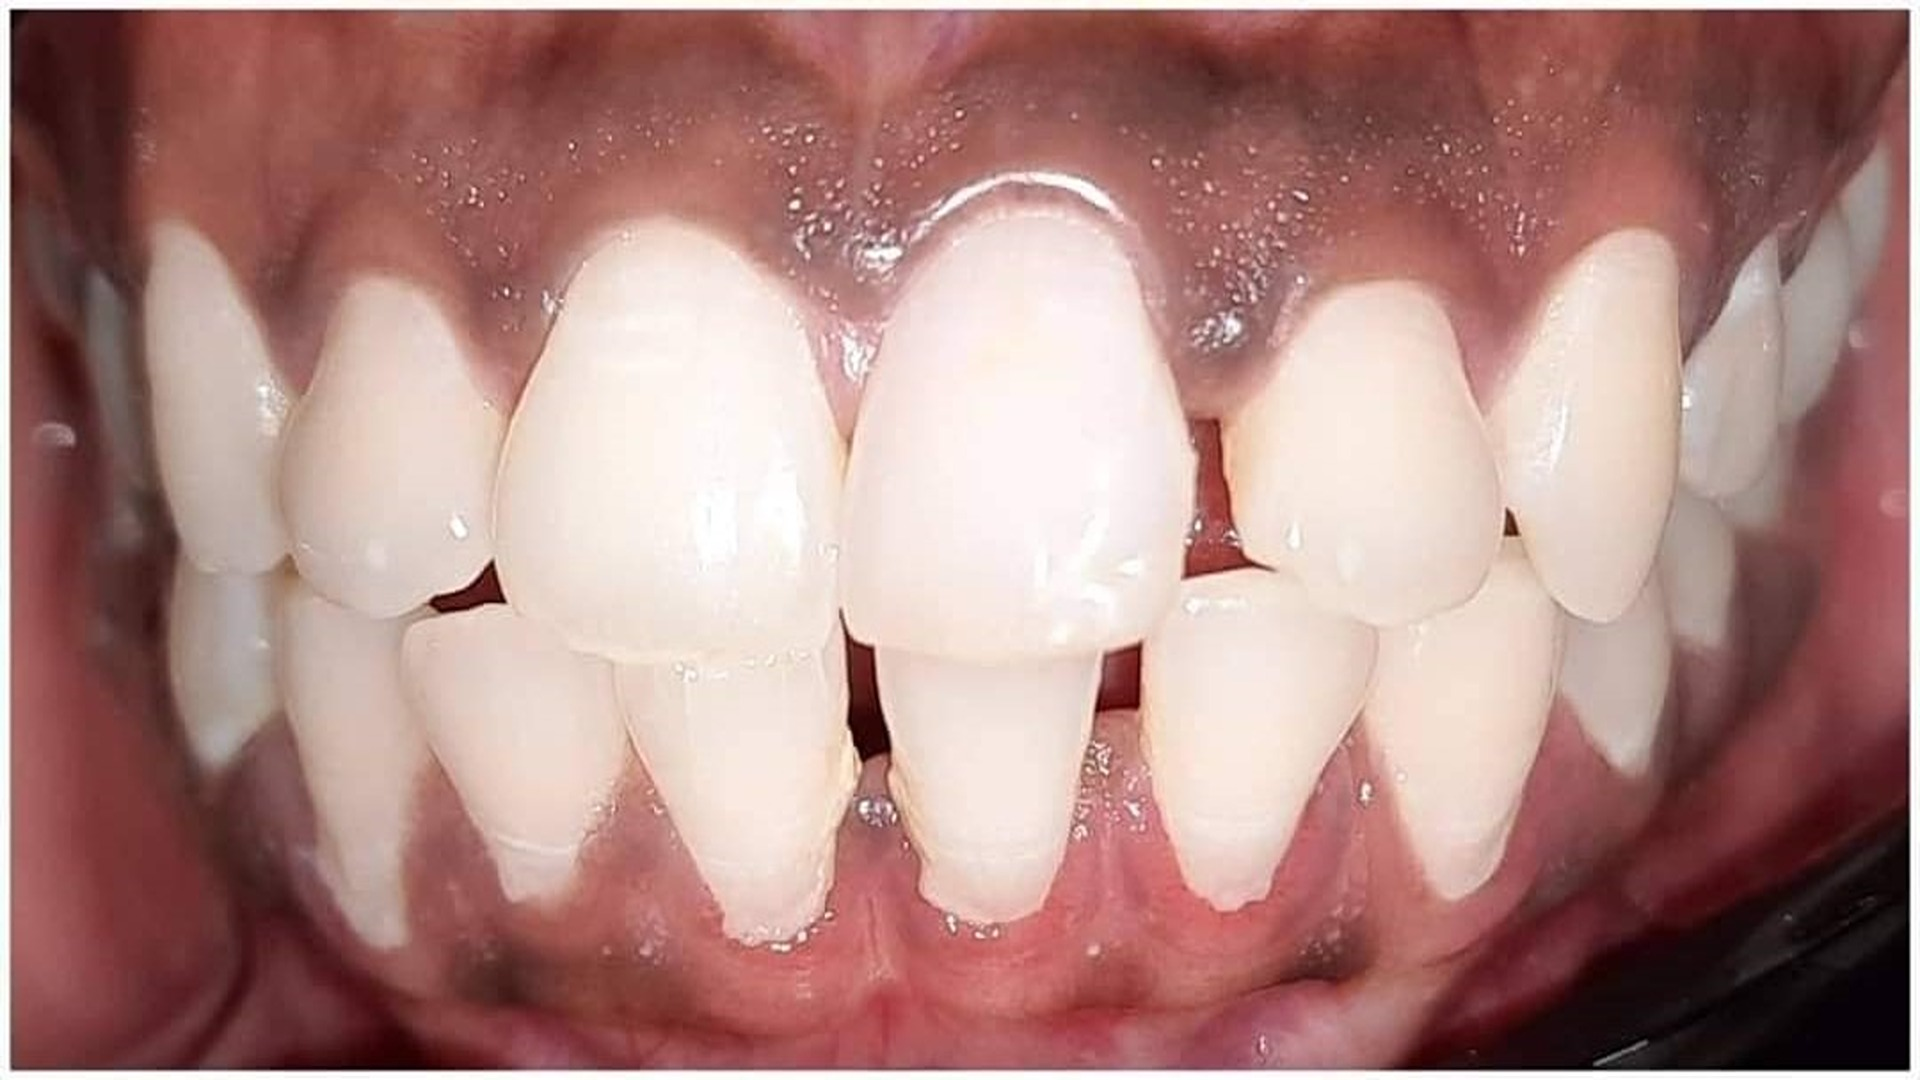tooth: (839, 200, 1197, 665), (495, 218, 847, 666), (1222, 280, 1505, 626), (1139, 568, 1379, 913), (615, 633, 862, 947), (1485, 227, 1681, 622), (278, 276, 500, 616), (1365, 537, 1567, 901), (400, 603, 626, 902), (270, 556, 434, 951), (874, 645, 1104, 922), (1681, 204, 1851, 525), (142, 218, 293, 576), (167, 549, 277, 769), (1560, 568, 1673, 778), (1659, 488, 1741, 654)
